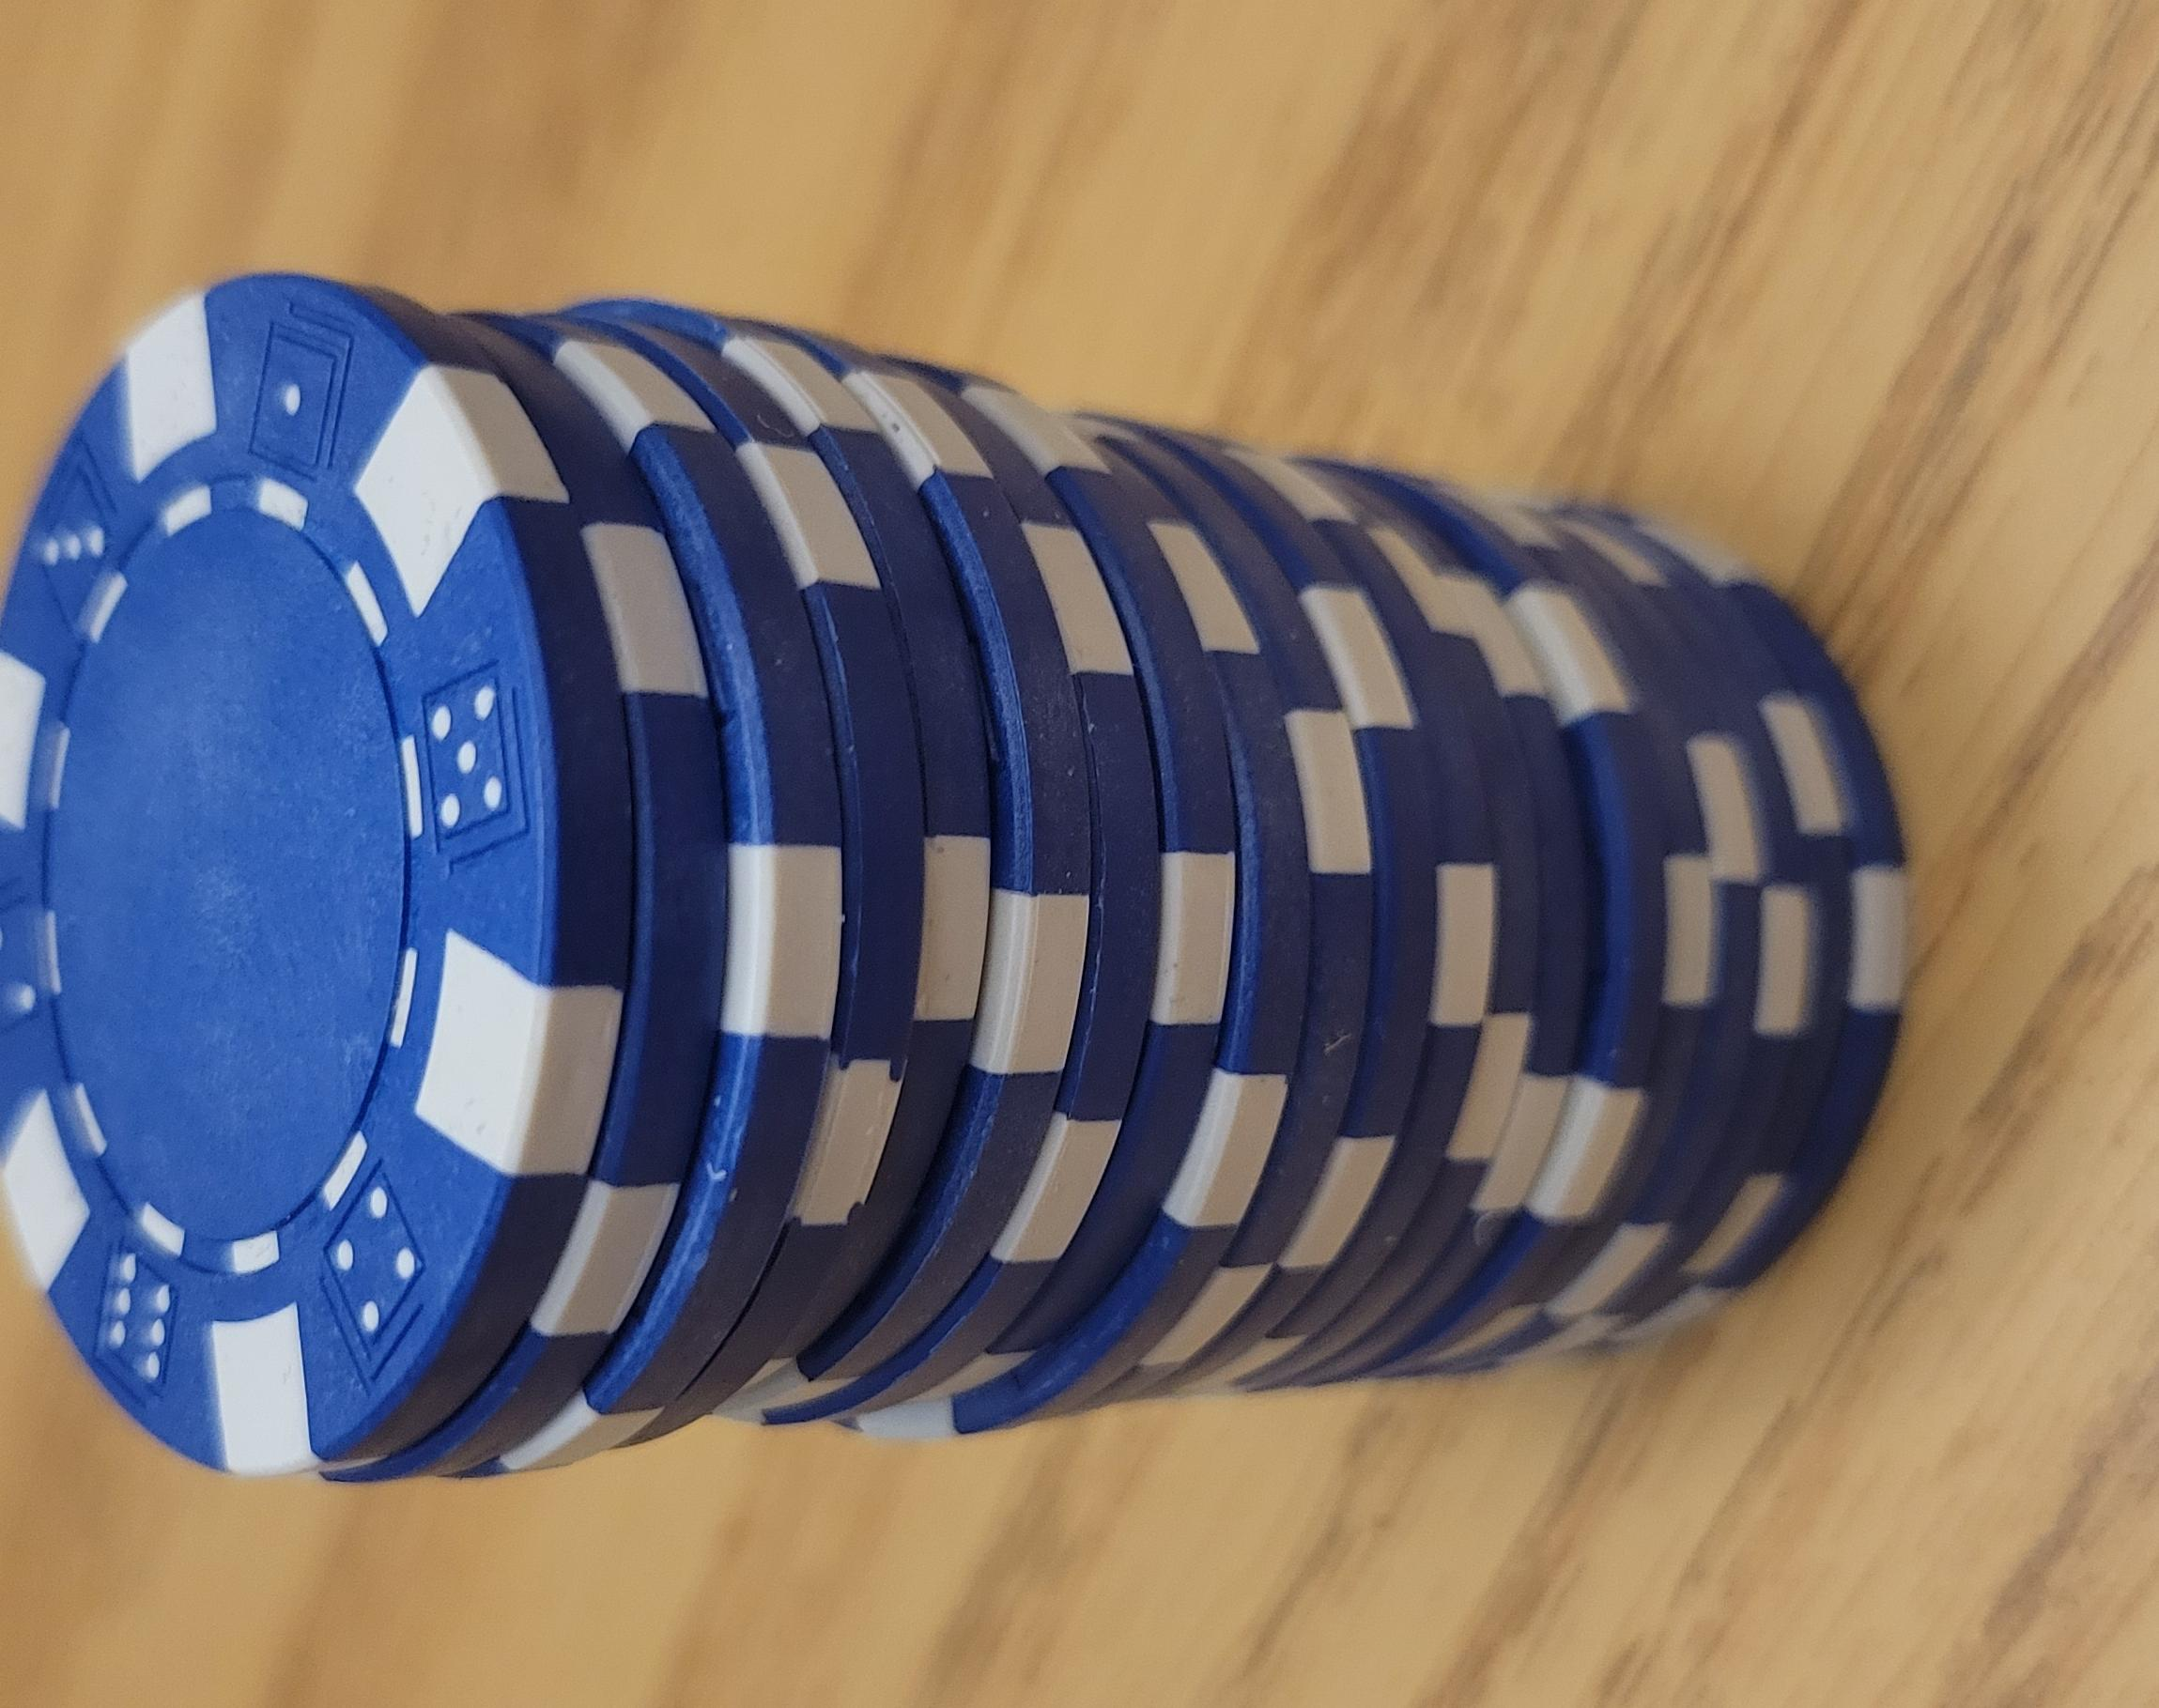Chip: (2, 156, 1404, 1708)
